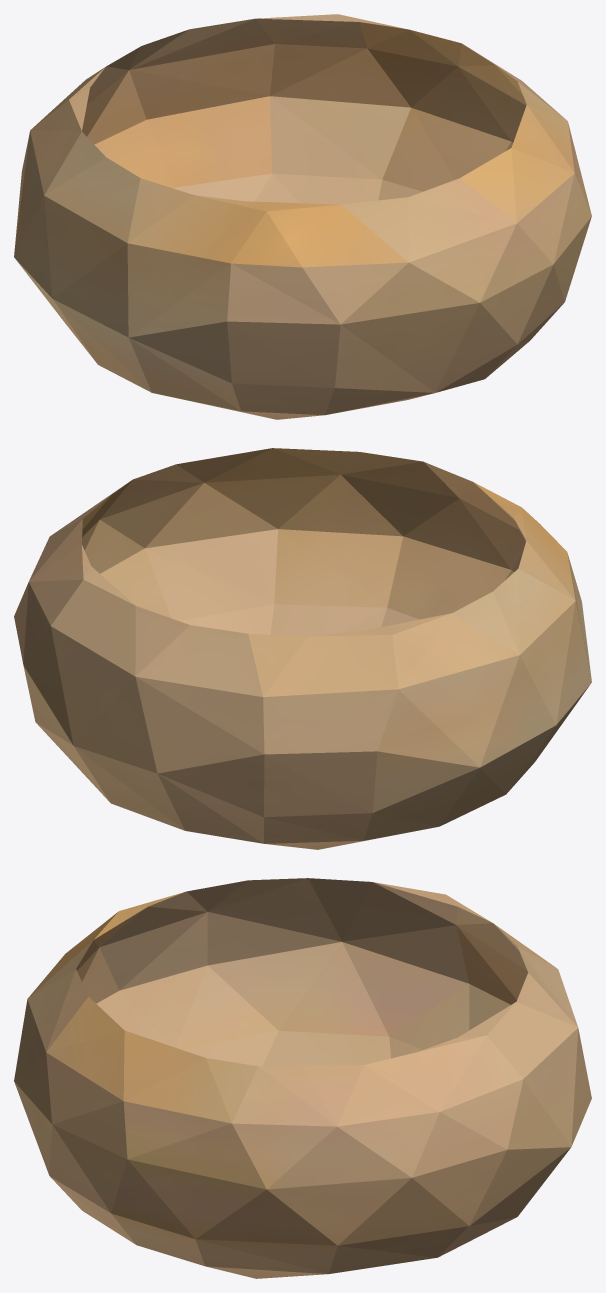
The model's file is bowl2_1a.dae.
3 views of the same model, one above another, from view 1: azimuth 30°, elevation 25°; view 2: azimuth 150°, elevation 25°; view 3: azimuth 270°, elevation 25° (orthographic).
Visible parts, largest first — view 1: node; view 2: node; view 3: node.
Boxes of the visible parts, box(x1,y1,x2,y2) form: node: box(14, 14, 591, 419); node: box(14, 448, 591, 849); node: box(14, 878, 591, 1278).
Bounding box in the file's own units: 0.1445 × 0.0668 × 0.1439.
1 material, 1 textured.
